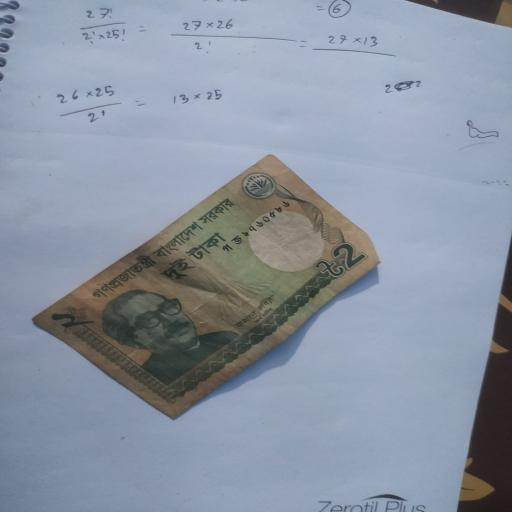2taka: (34, 155, 379, 418)
